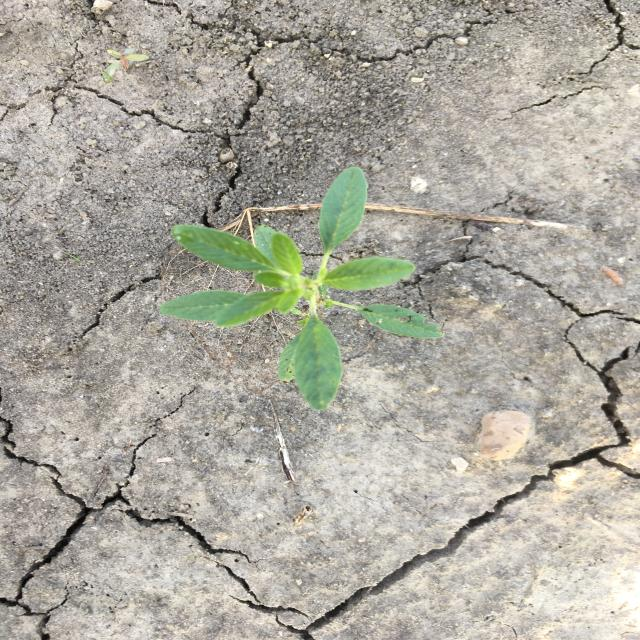Waterhemp: (154, 166, 446, 412)
